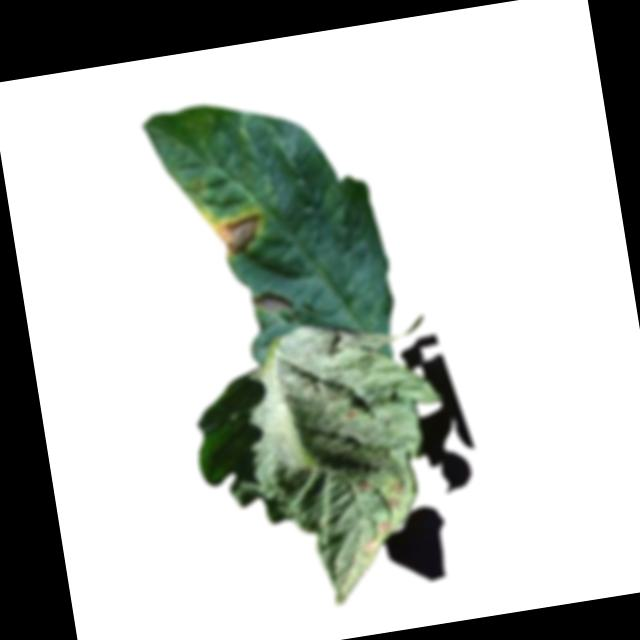Early_blight: (210, 213, 266, 259), (353, 480, 373, 494), (377, 518, 394, 534), (387, 494, 402, 512), (392, 484, 408, 497)
